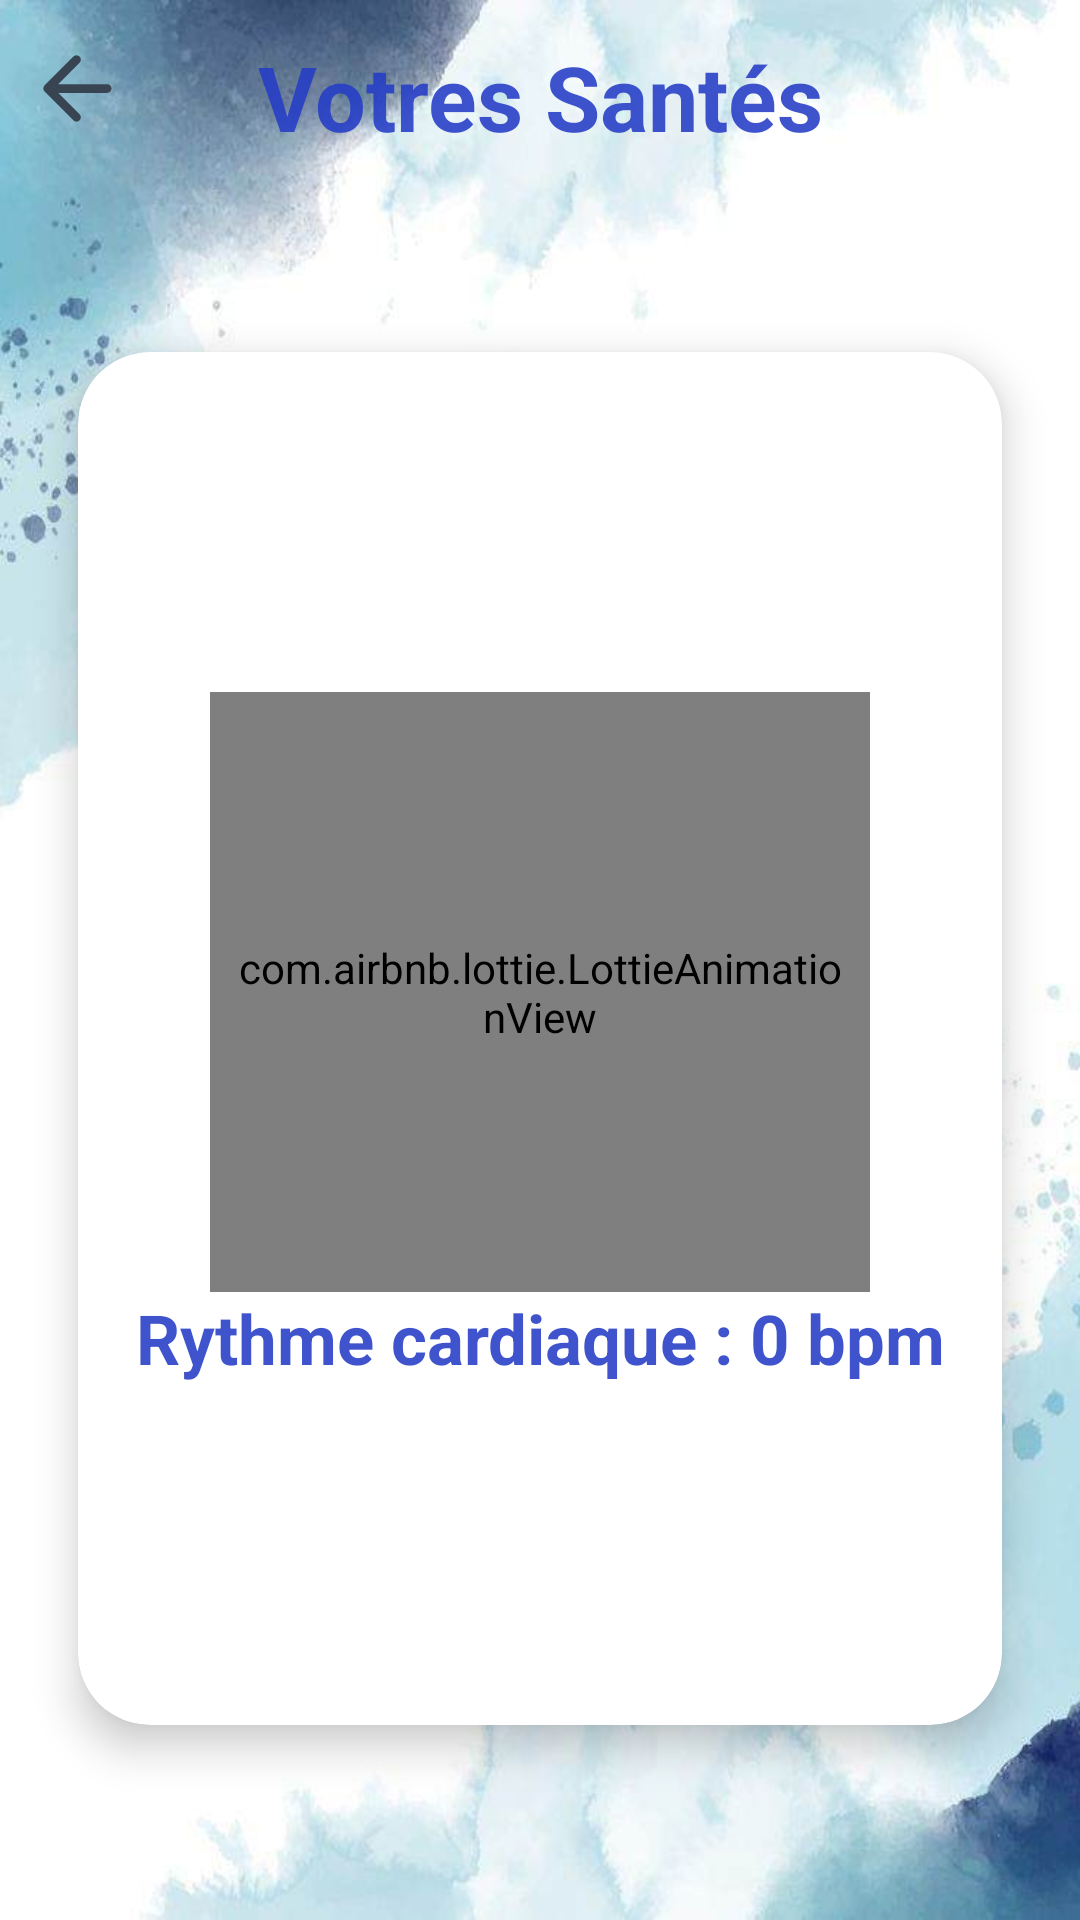

Icon click points for this 1080px x 1920px phone screenshot, format (x=x, y=y):
back: (x=76, y=88)
